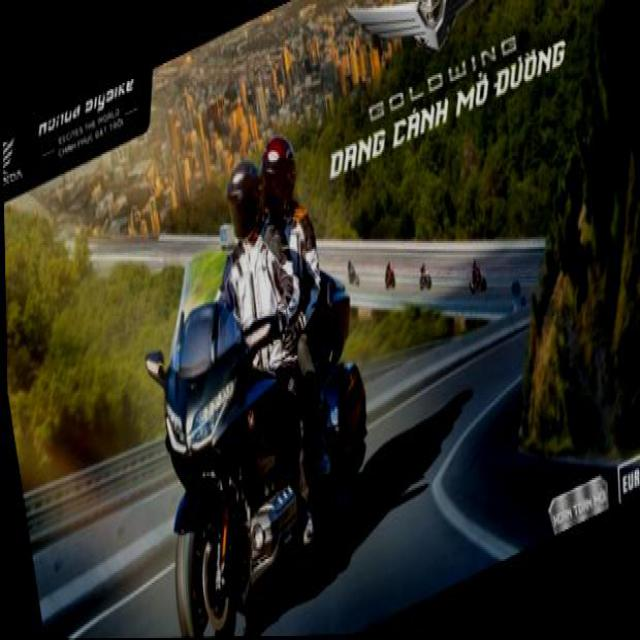Gold Wing: (124, 184, 393, 636)
